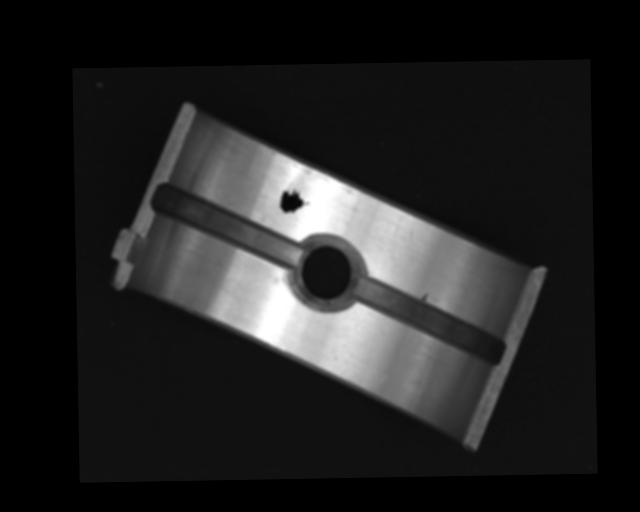blot: (278, 181, 310, 214)
bruise: (419, 292, 429, 302)
gap: (356, 272, 505, 366), (152, 180, 300, 267)
hole: (294, 237, 361, 309)
